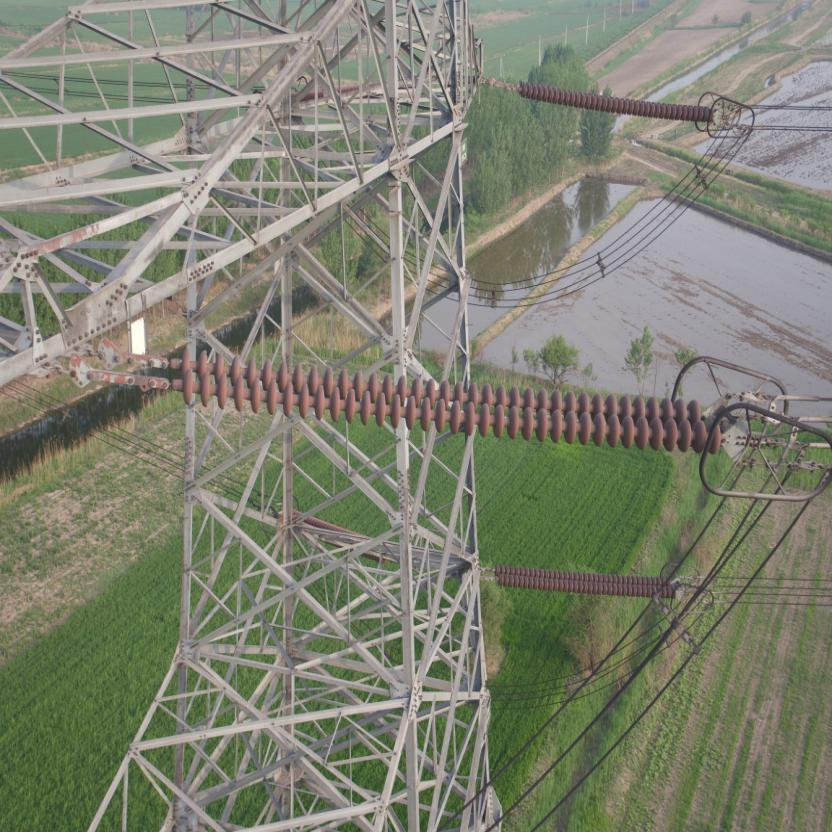insulator: (135, 348, 735, 456), (503, 75, 718, 122), (484, 558, 680, 599)
